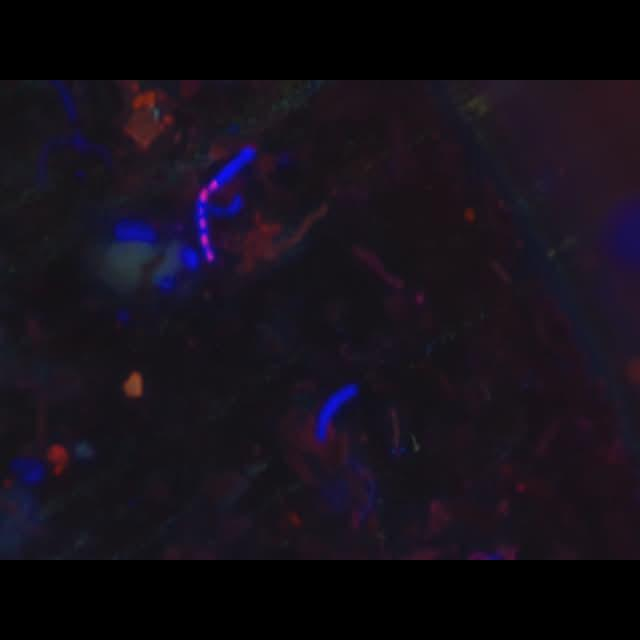Fragment: (47, 442, 67, 478)
